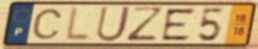5: (195, 6, 228, 43)
C: (31, 8, 65, 41)
E: (160, 7, 197, 42)
L: (62, 6, 92, 43)
U: (94, 5, 134, 44)
Z: (125, 6, 167, 44)
